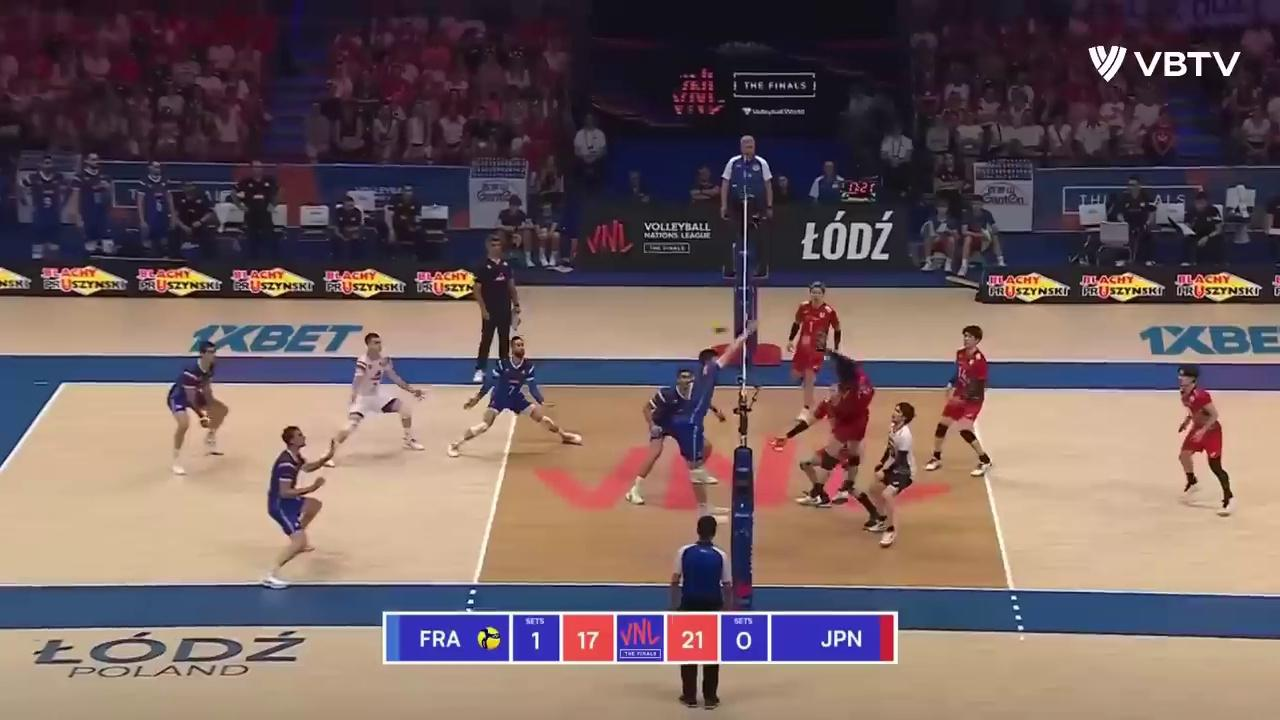ball: (712, 321, 730, 337)
